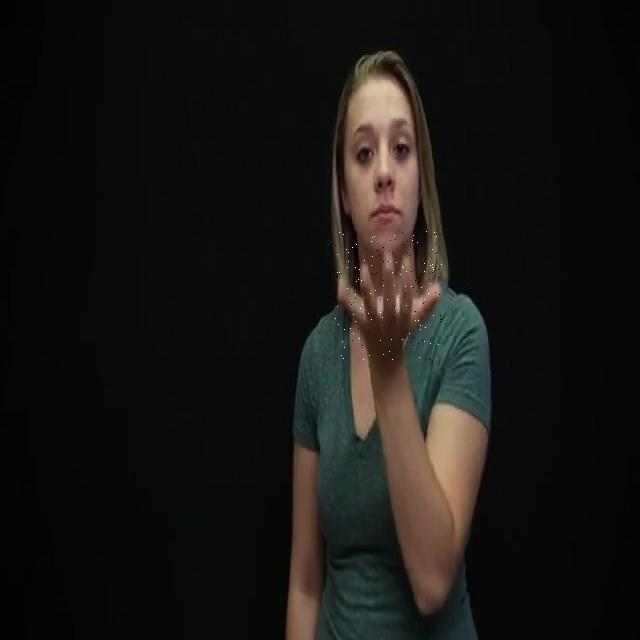warm: (334, 232, 442, 364)
